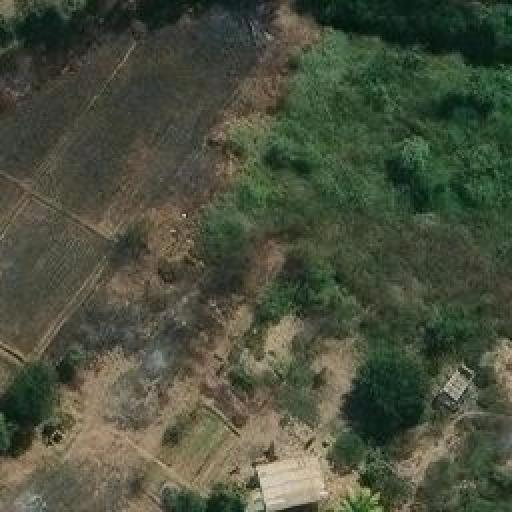manzanas: (237, 443, 333, 510)
